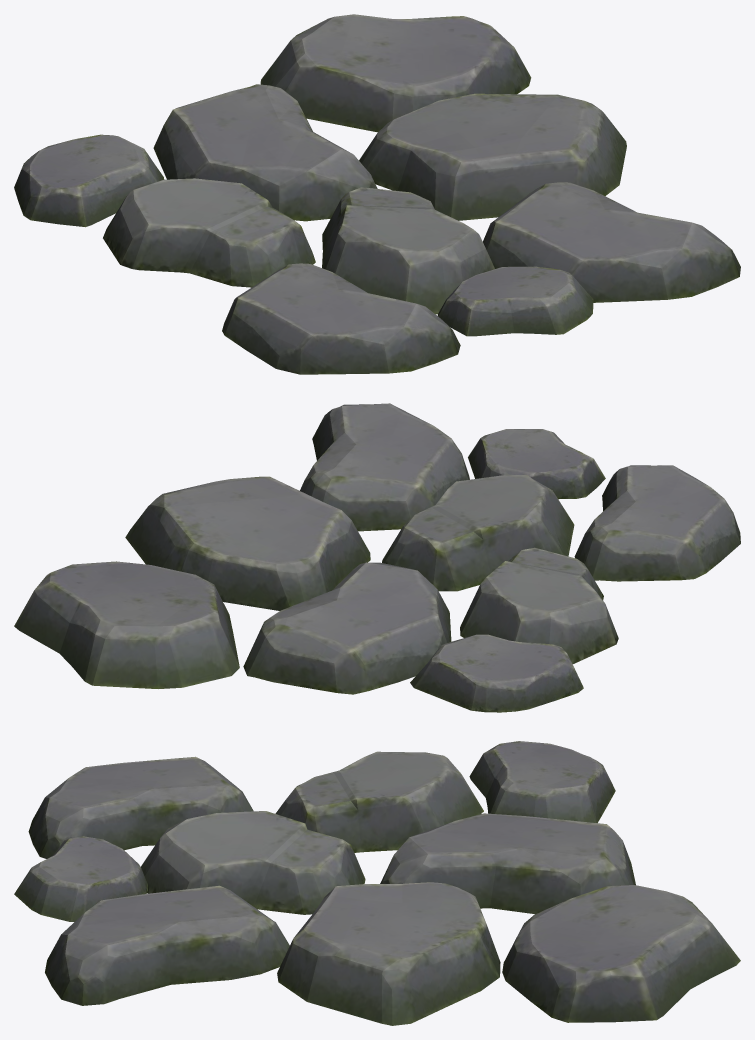
Rendered from RockPath_Round_Small_2.gltf.
3 renders of one model, top to bottom at view 1: azimuth 30°, elevation 25°; view 2: azimuth 150°, elevation 25°; view 3: azimuth 270°, elevation 25°, orthographic. The views are drawn at different scales.
Visible parts, largest first — view 1: RockPath_Round_Small_2; view 2: RockPath_Round_Small_2; view 3: RockPath_Round_Small_2.
Boxes of the visible parts, x1,y1,x2,y2 form: RockPath_Round_Small_2: (14, 14, 740, 374); RockPath_Round_Small_2: (14, 403, 740, 712); RockPath_Round_Small_2: (14, 741, 740, 1025).
Size of the model in its own units: 1.14 by 0.1047 by 1.35.
1 material, 1 textured.
